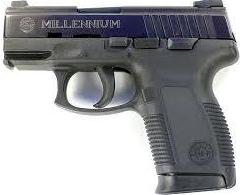gun: (1, 1, 240, 195)
